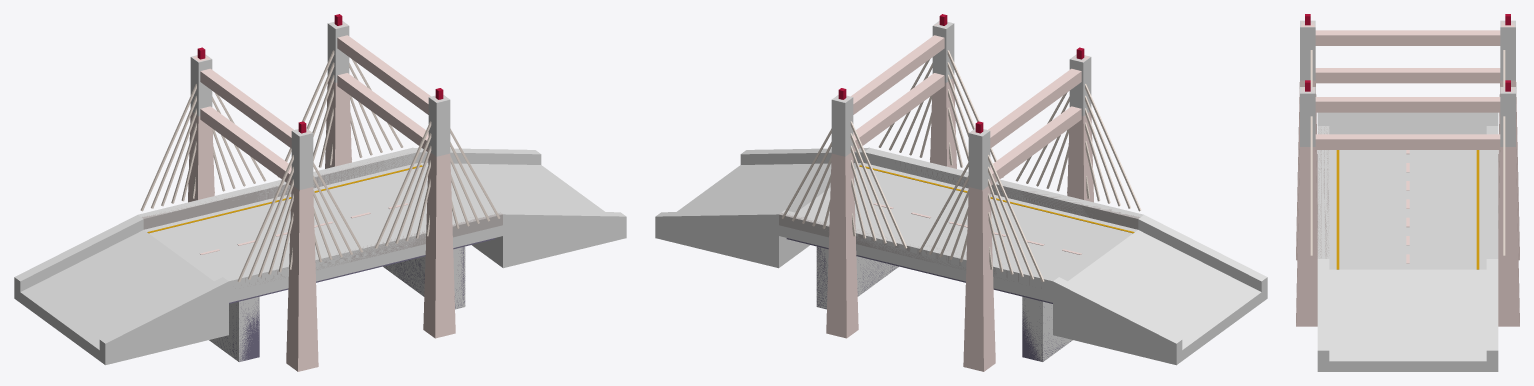
The model's file is cableBridge.glb.
3 views of the same model, side by side, from view 1: azimuth 30°, elevation 25°; view 2: azimuth 150°, elevation 25°; view 3: azimuth 270°, elevation 25° (orthographic).
Visible parts, largest first — view 1: cableBridgePhysical, cuboid_deck, hull_rampB, hull_rampA, cuboid_kerbL, cuboid_kerbR, hull_rampKerbBR, hull_rampKerbBL, hull_rampKerbAR, cuboid_pierB, cuboid_pierA, hull_rampKerbAL (+4 smaller); view 2: cableBridgePhysical, cuboid_deck, hull_rampB, hull_rampA, cuboid_kerbR, cuboid_kerbL, hull_rampKerbBL, hull_rampKerbBR, hull_rampKerbAL, cuboid_pierB, cuboid_pierA, hull_rampKerbAR (+4 smaller); view 3: cableBridgePhysical, cuboid_deck, hull_rampA, hull_rampB, cuboid_kerbL, cuboid_kerbR, hull_rampKerbAL, hull_rampKerbAR, cuboid_legAR, cuboid_legAL, cuboid_legBL, cuboid_legBR.
Boxes of the visible parts, x1,y1,x2,y2 form: cableBridgePhysical: (140, 14, 502, 371); cuboid_deck: (144, 163, 502, 302); hull_rampB: (14, 230, 228, 365); hull_rampA: (420, 163, 626, 268); cuboid_kerbL: (138, 148, 417, 217); cuboid_kerbR: (223, 210, 501, 291); hull_rampKerbBR: (99, 277, 228, 354); hull_rampKerbBL: (14, 215, 143, 291); hull_rampKerbAR: (497, 210, 626, 227); cuboid_pierB: (209, 296, 259, 361); cuboid_pierA: (383, 246, 465, 309); hull_rampKerbAL: (412, 147, 541, 164); cableBridgePhysical: (779, 14, 1141, 371); cuboid_deck: (779, 163, 1137, 302); hull_rampB: (1053, 230, 1267, 365); hull_rampA: (655, 163, 861, 268); cuboid_kerbR: (864, 148, 1143, 219); cuboid_kerbL: (780, 210, 1058, 291); hull_rampKerbBL: (1053, 277, 1182, 354); hull_rampKerbBR: (1138, 215, 1267, 291); hull_rampKerbAL: (655, 210, 784, 227); cuboid_pierB: (1022, 296, 1072, 361); cuboid_pierA: (816, 246, 898, 309); hull_rampKerbAR: (740, 147, 869, 164); cableBridgePhysical: (1296, 14, 1519, 326); cuboid_deck: (1329, 150, 1486, 269); hull_rampA: (1317, 269, 1498, 371); hull_rampB: (1329, 112, 1486, 134); cuboid_kerbL: (1486, 126, 1498, 258); cuboid_kerbR: (1317, 126, 1329, 258); hull_rampKerbAL: (1486, 259, 1498, 361); hull_rampKerbAR: (1317, 259, 1329, 361); cuboid_legAR: (1300, 87, 1315, 146); cuboid_legAL: (1500, 87, 1515, 146); cuboid_legBL: (1500, 20, 1515, 80); cuboid_legBR: (1300, 20, 1315, 80).
Size of the model in its own units: 15.2 by 6.75 by 5.7.
Materials: 1 (1 with a texture image).
